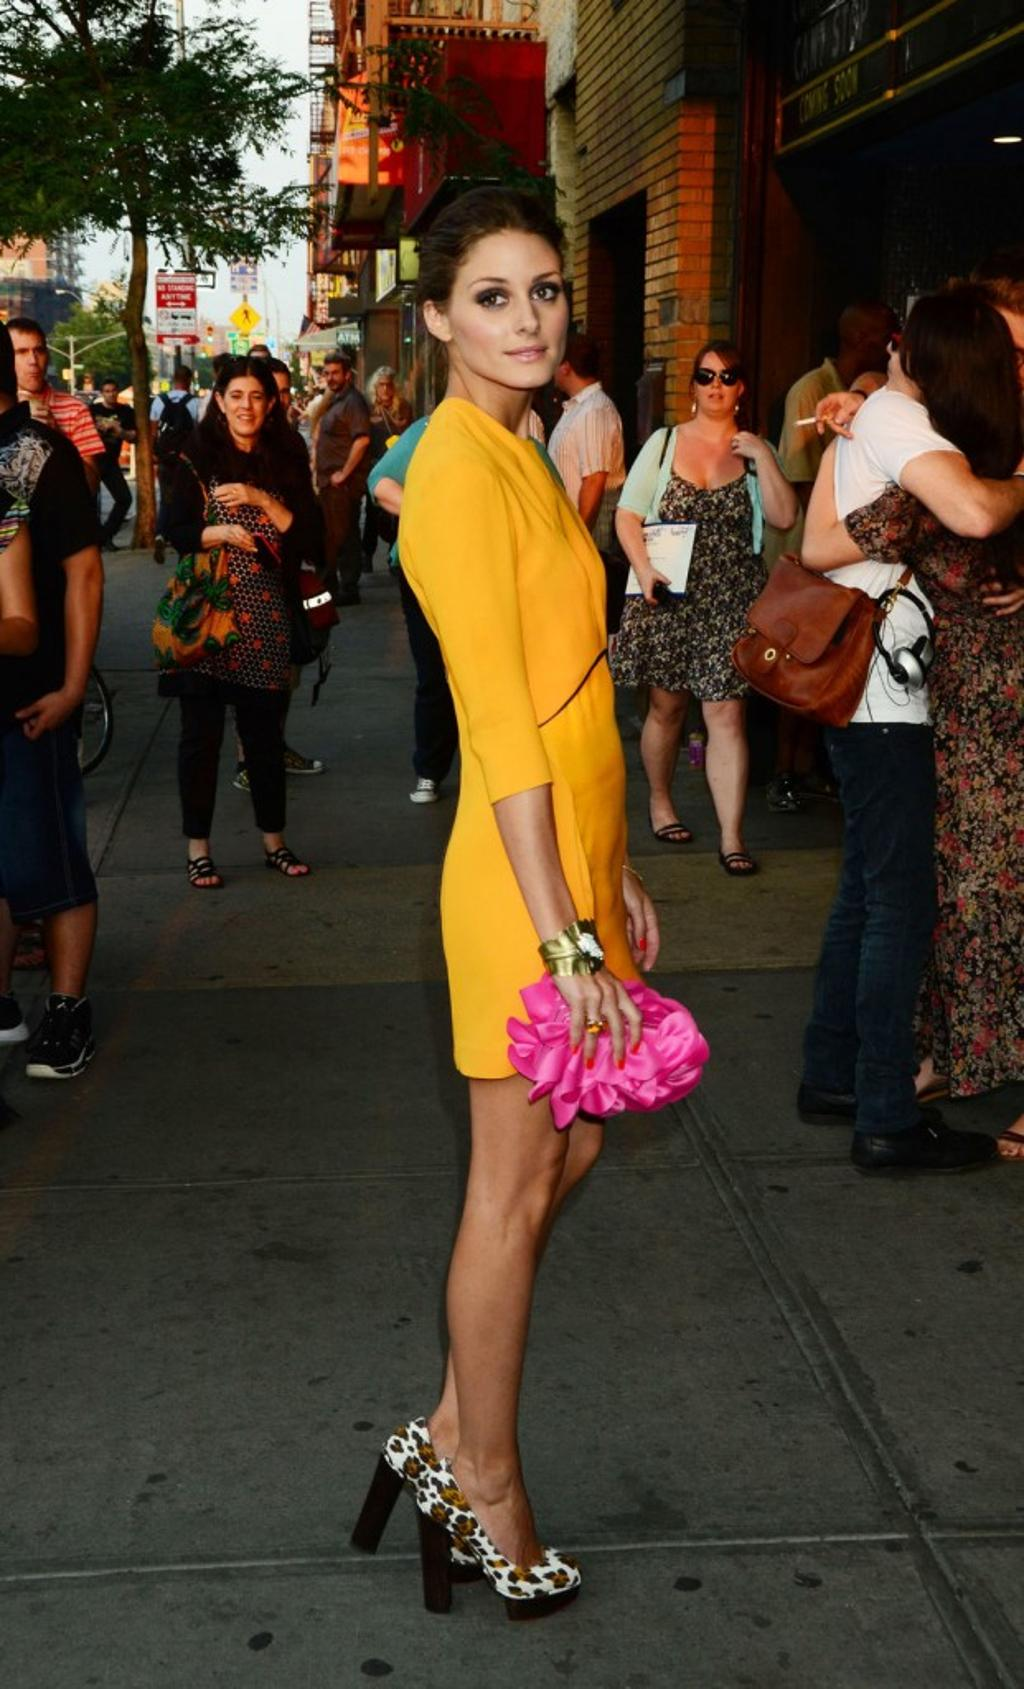face: (449, 252, 567, 387), (962, 313, 1024, 420), (696, 356, 739, 414), (223, 382, 266, 433), (10, 335, 44, 390), (261, 377, 289, 418), (551, 348, 573, 385), (324, 366, 344, 389), (377, 377, 395, 399)
